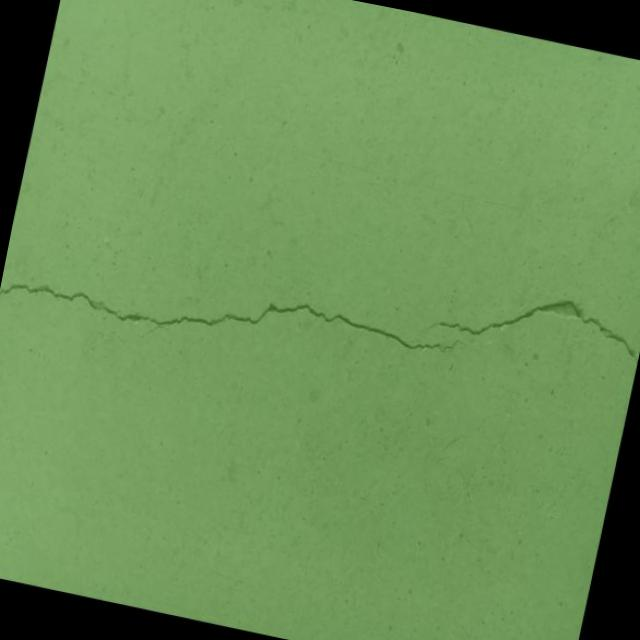crack: (0, 240, 475, 417), (421, 272, 640, 378)
